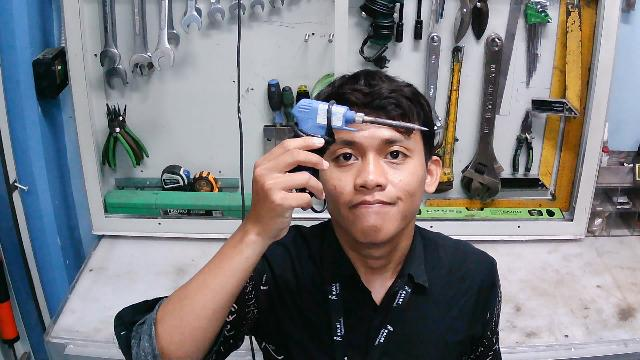solder_electrical: (288, 98, 428, 213)
